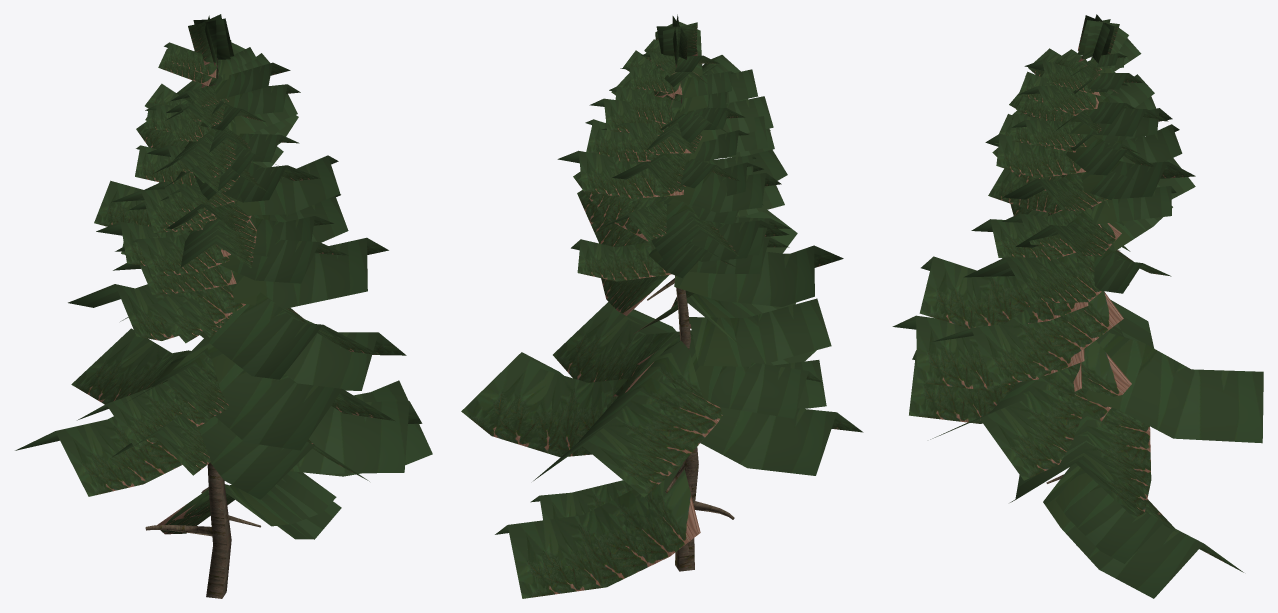
The model's file is Spruce_03.fbx.
3 renders of one model, left to right at view 1: azimuth 30°, elevation 25°; view 2: azimuth 150°, elevation 25°; view 3: azimuth 270°, elevation 25°, orthographic. The views are drawn at different scales.
Visible parts, largest first — view 1: spruce_4:spruce4_1, spruce_4:spruce4_0; view 2: spruce_4:spruce4_1, spruce_4:spruce4_0; view 3: spruce_4:spruce4_1.
Boxes of the visible parts, left/top/right/bottom form: spruce_4:spruce4_1: left=15, top=14, right=432, bottom=539; spruce_4:spruce4_0: left=145, top=58, right=260, bottom=598; spruce_4:spruce4_1: left=461, top=14, right=863, bottom=598; spruce_4:spruce4_0: left=647, top=81, right=734, bottom=571; spruce_4:spruce4_1: left=892, top=14, right=1263, bottom=598.
Bounding box in the file's own units: 72.97 × 106 × 67.72.
2 materials, 2 textured.
